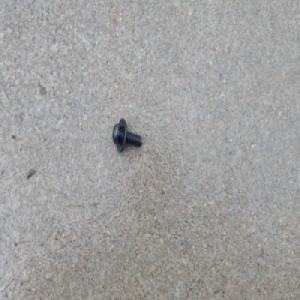BoltWasher: (111, 117, 142, 152)
